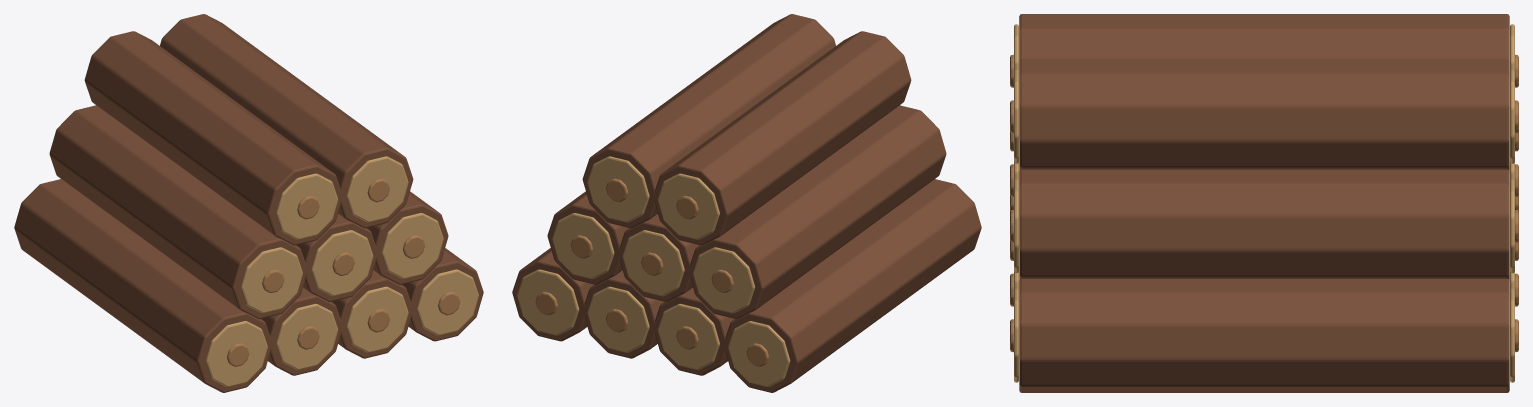
Rendered from prop_log_stack.glb.
The picture shows the model from 3 angles, left to right: view 1: azimuth 30°, elevation 25°; view 2: azimuth 150°, elevation 25°; view 3: azimuth 270°, elevation 25°; orthographic projection. The views are drawn at different scales.
Parts seen in each view (by area): view 1: prop_log_stack__attachments; view 2: prop_log_stack__attachments; view 3: prop_log_stack__attachments.
Boxes of the visible parts, <box> form: prop_log_stack__attachments: <box>14,14,483,392</box>; prop_log_stack__attachments: <box>512,14,981,392</box>; prop_log_stack__attachments: <box>1010,14,1518,392</box>.
Bounding box in the file's own units: 1.06 × 0.7263 × 1.22.
